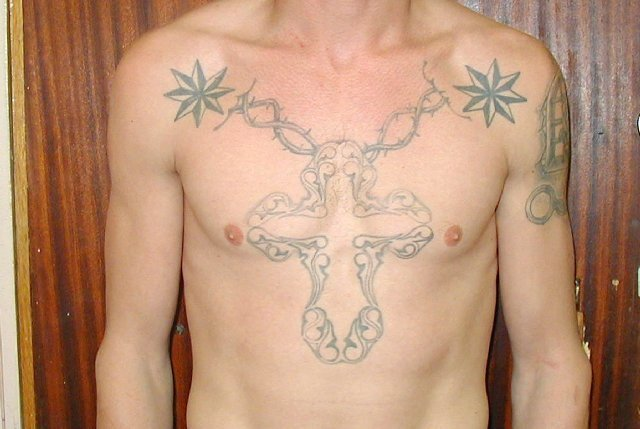tatu4_zvezda: (454, 60, 525, 125), (159, 59, 236, 117)
tatu9_krest: (248, 133, 436, 366)
